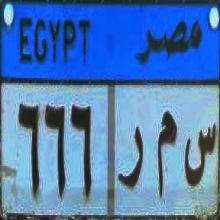6: (69, 96, 95, 200), (43, 102, 68, 203), (18, 96, 40, 202)
meem: (153, 107, 178, 204)
raa: (117, 115, 144, 202)
seen: (181, 116, 218, 200)
